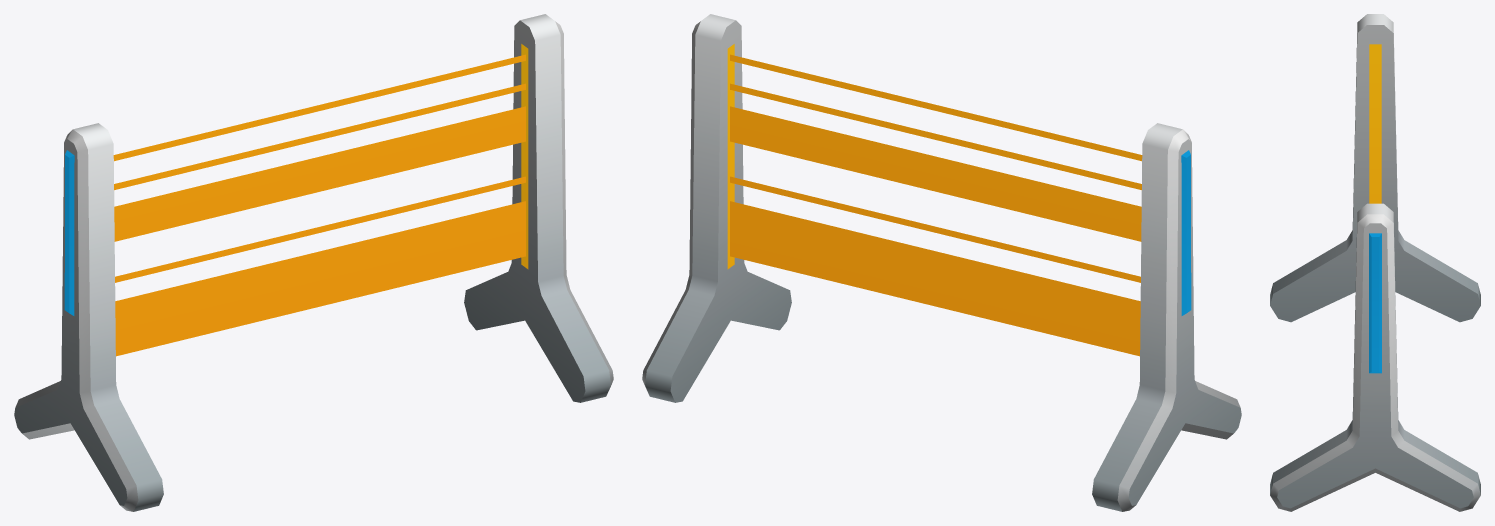
The model's file is Barriaer_008.glb.
3 renders of one model, left to right at view 1: azimuth 30°, elevation 25°; view 2: azimuth 150°, elevation 25°; view 3: azimuth 270°, elevation 25°, orthographic. The views are drawn at different scales.
Parts seen in each view (by area): view 1: Barriaer_008; view 2: Barriaer_008; view 3: Barriaer_008.
Boxes of the visible parts, box(x1,y1,x2,y2) form: Barriaer_008: box(14, 14, 613, 511); Barriaer_008: box(642, 14, 1241, 511); Barriaer_008: box(1270, 14, 1480, 511).
Bounding box in the file's own units: 1.55 × 1.02 × 0.6579.
Materials: 2 (2 with a texture image).
